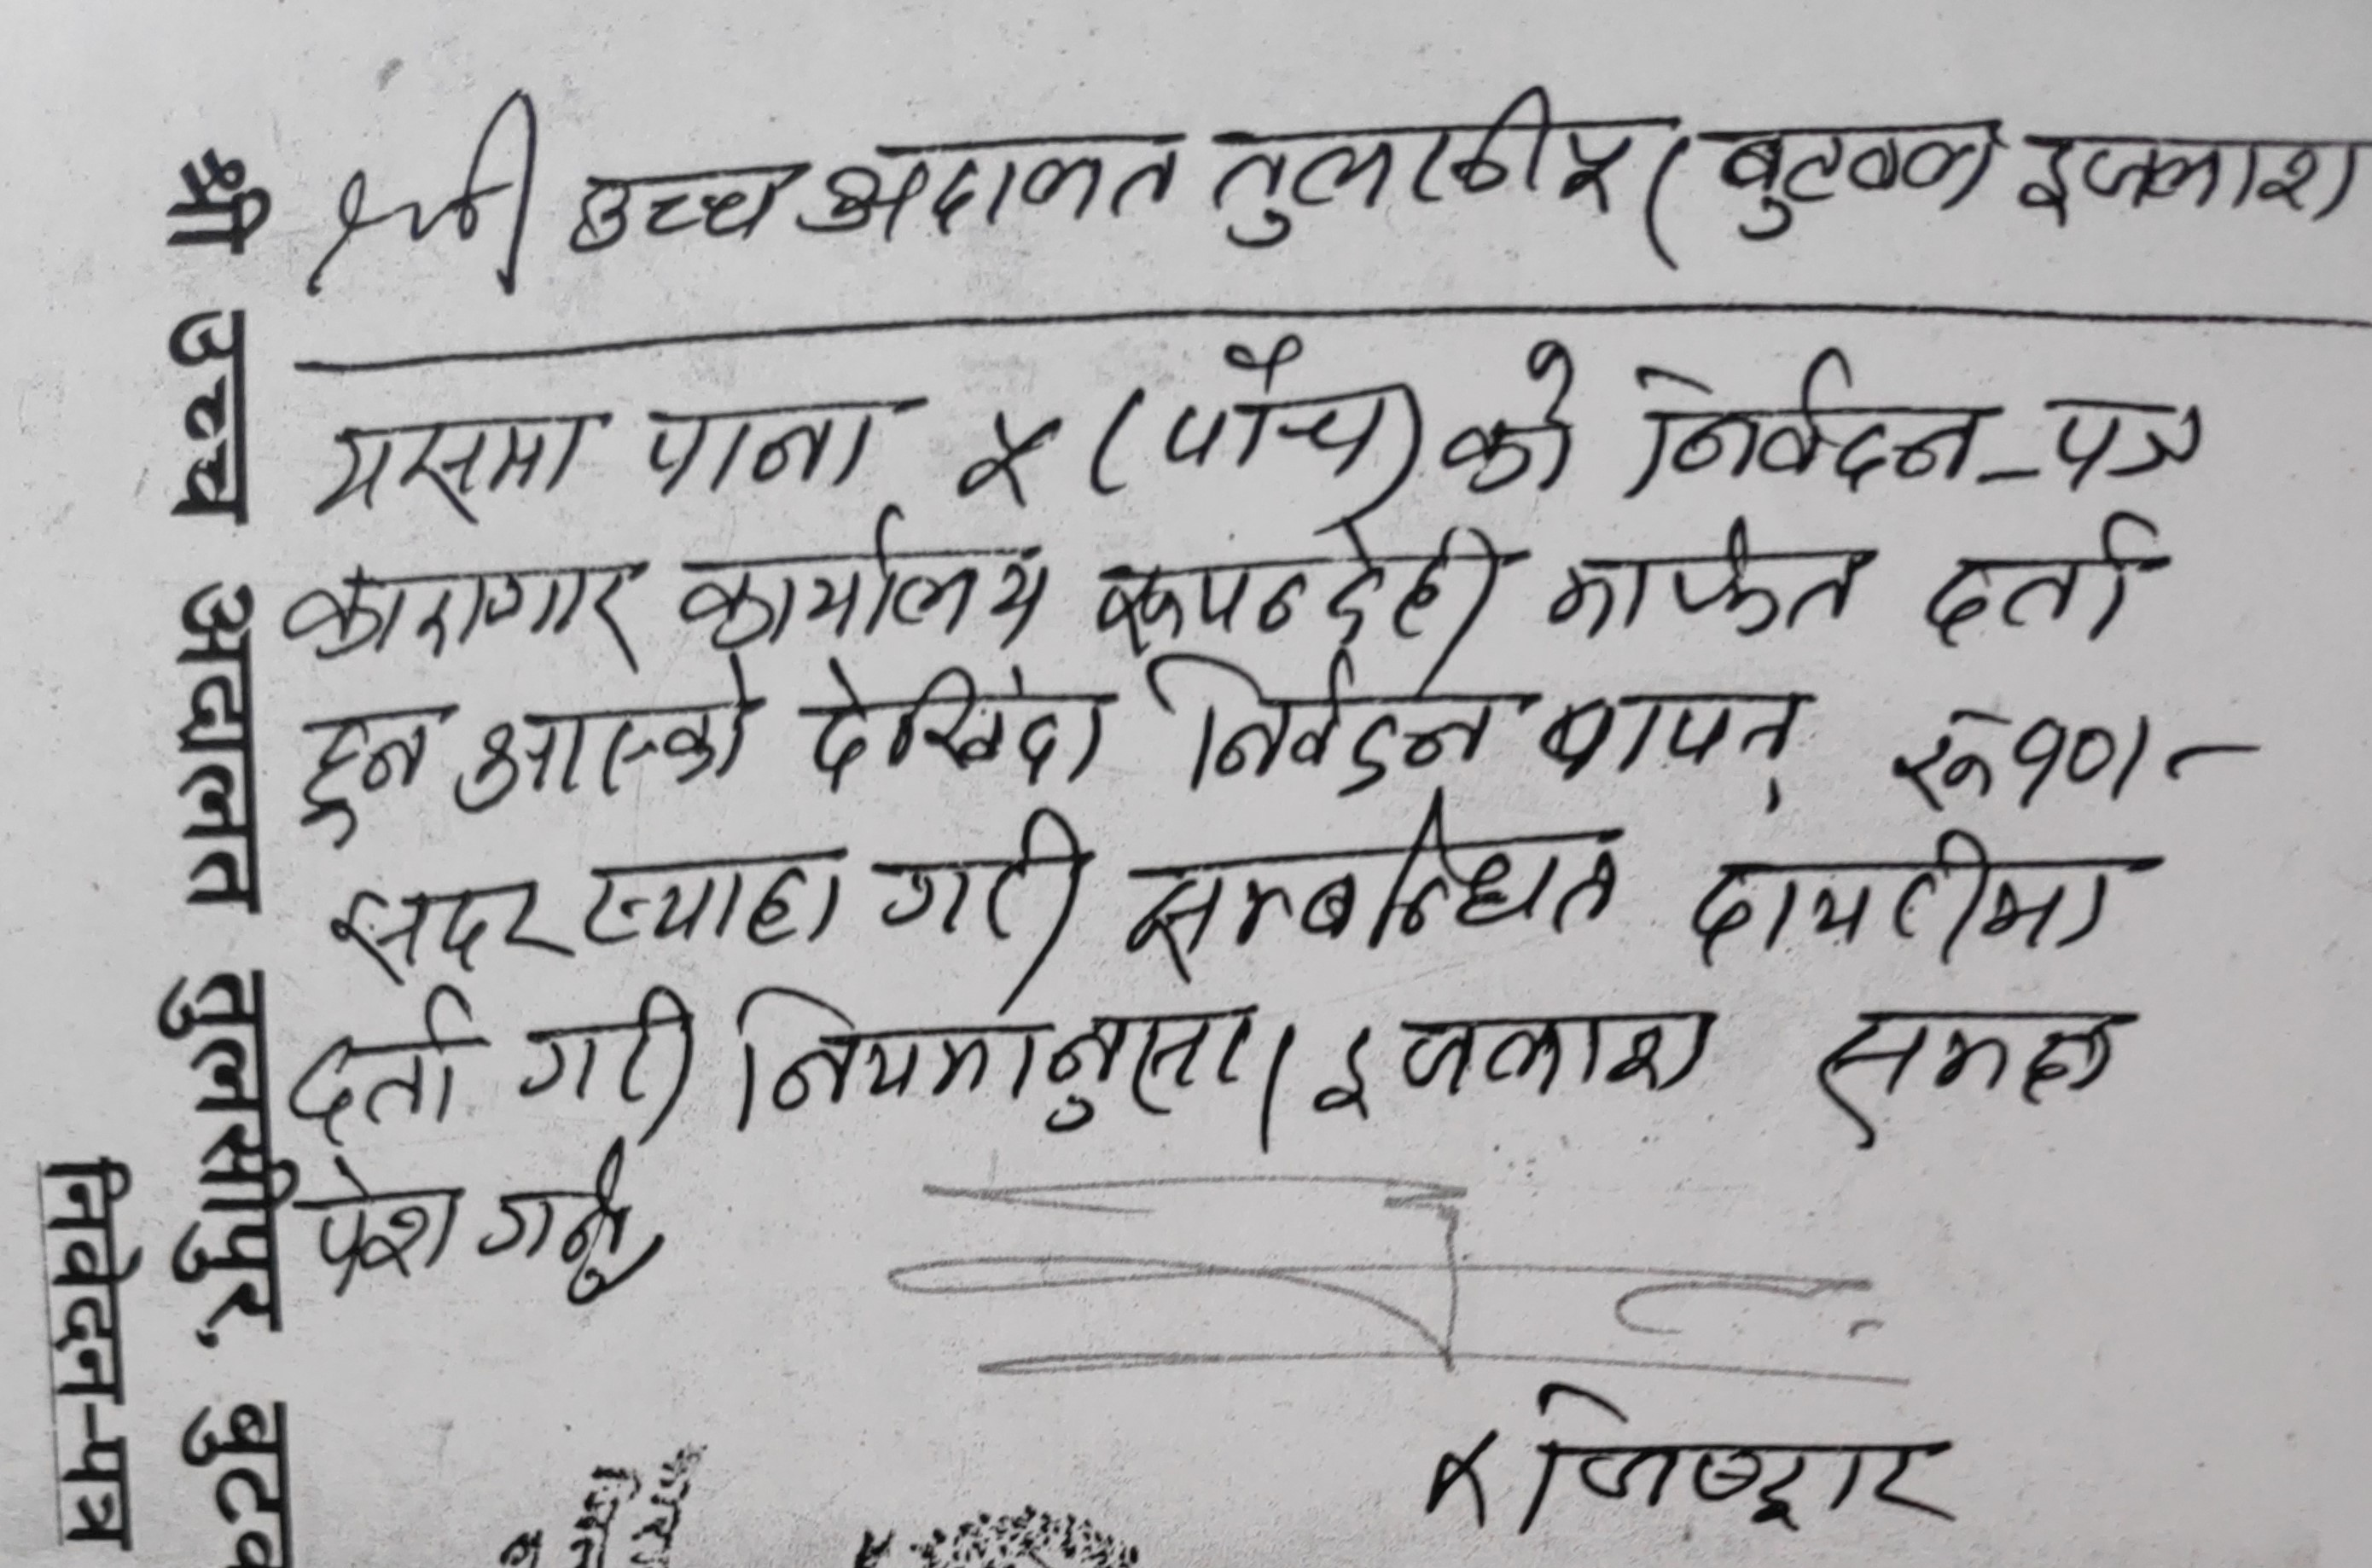text: (1117, 794, 1623, 978), (725, 978, 1246, 1155), (1511, 1377, 1966, 1549), (1204, 80, 1637, 259), (1084, 499, 1511, 653), (1619, 327, 1982, 507), (667, 495, 1054, 663), (1688, 824, 2116, 966), (1308, 994, 1719, 1139), (1147, 639, 1498, 801), (306, 84, 543, 310), (445, 656, 760, 819), (1808, 987, 2129, 1143), (2013, 110, 2372, 248), (1540, 507, 1873, 653), (789, 656, 1108, 807), (275, 551, 637, 677), (802, 124, 1182, 241), (1710, 107, 2003, 245), (1912, 499, 2167, 653), (1152, 324, 1399, 474), (306, 397, 602, 521), (881, 798, 1087, 971), (581, 828, 846, 962), (1528, 675, 1810, 784), (284, 983, 473, 1143), (1878, 691, 2115, 815), (509, 975, 702, 1127), (473, 1134, 637, 1309), (317, 875, 560, 989), (632, 392, 875, 504), (1442, 324, 1588, 500), (564, 150, 786, 266), (296, 1143, 457, 1300), (292, 712, 434, 854), (2046, 388, 2202, 500), (951, 401, 1066, 514)
